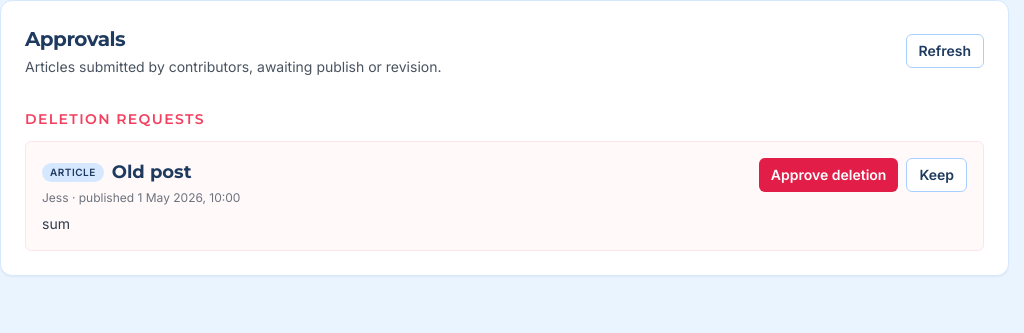
Test case: ApprovalsQueue › shows an error when approveDeletion returns non-ok
Step 1. Click the button "Approve deletion" → (829, 175), box 759,158 -> 898,192
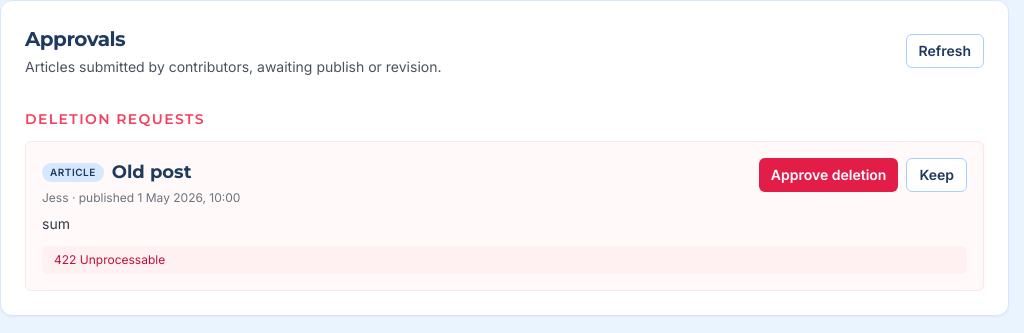
Result: the text "422" is shown at 54,252 -> 165,267
